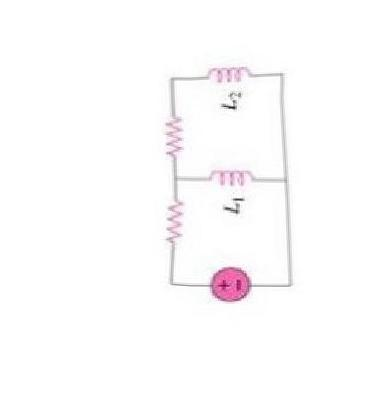Battery: (201, 256, 255, 310)
